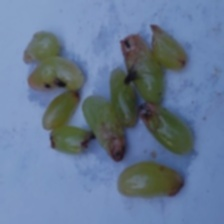grapes: (36, 34, 174, 171)
